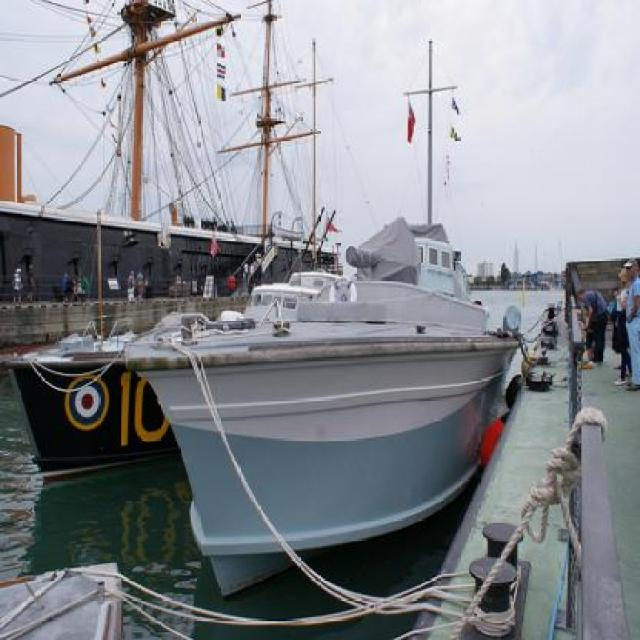ship: (124, 220, 521, 598), (8, 270, 344, 485)
